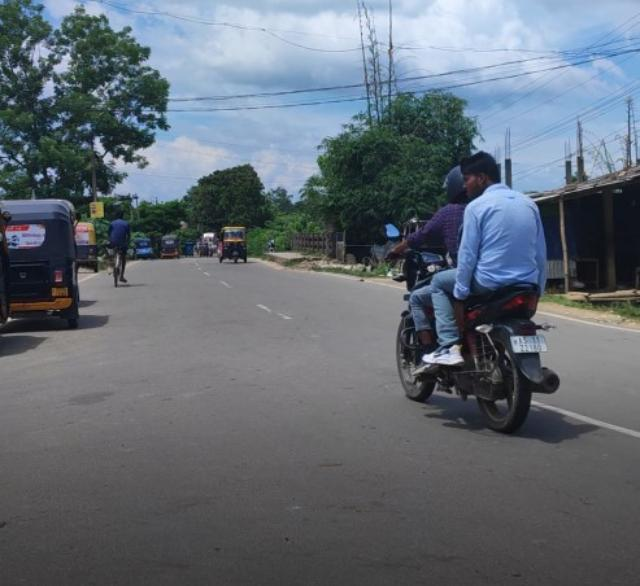licensePlate: (511, 338, 550, 352)
motorcycle: (386, 154, 560, 438)
withHelmet: (436, 170, 465, 200)
withoutHelmet: (459, 156, 506, 196)
